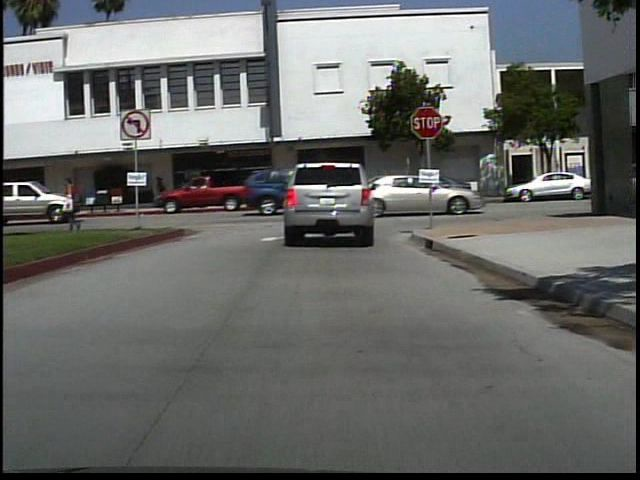person: (58, 173, 95, 235), (287, 162, 316, 235), (153, 172, 171, 209), (173, 173, 191, 209)
